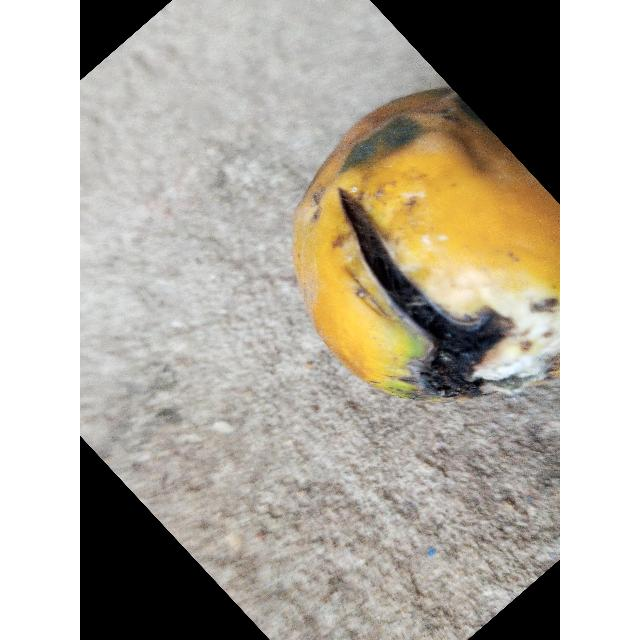damaged: (293, 87, 560, 402)
